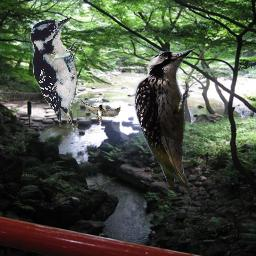Swallow: (79, 98, 121, 123)
Woodpecker: (129, 41, 200, 199), (30, 17, 80, 132)
